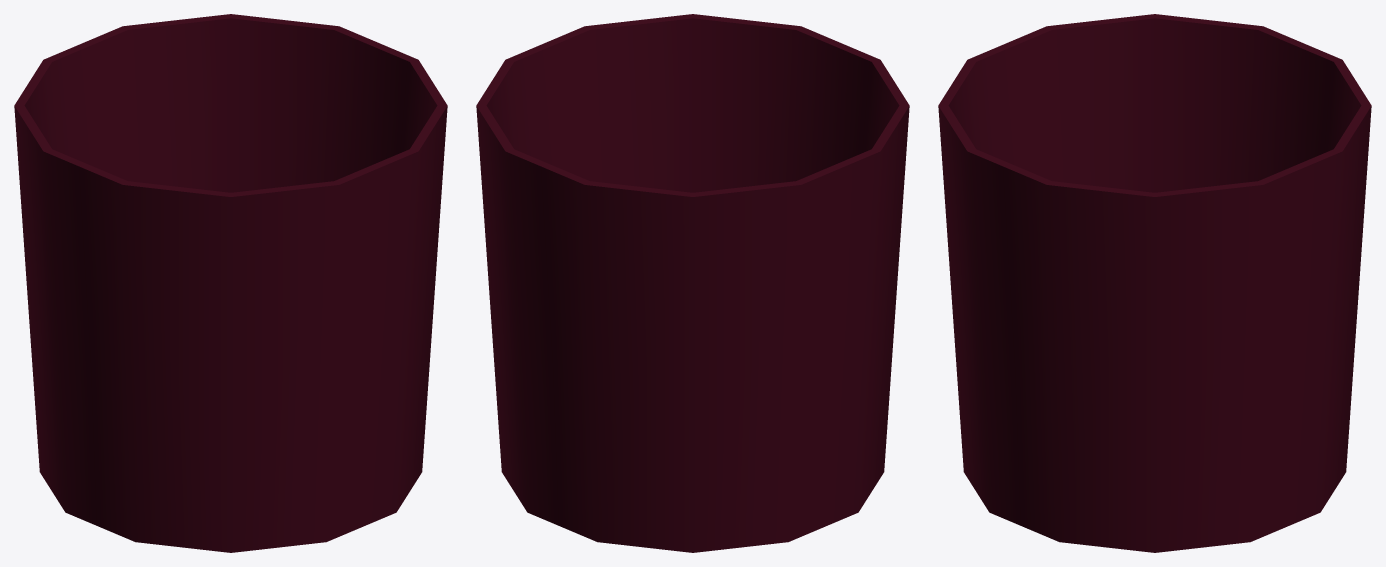
The model's file is Prop_Glass_Rum_v01.fbx.
The picture shows the model from 3 angles, left to right: view 1: azimuth 30°, elevation 25°; view 2: azimuth 150°, elevation 25°; view 3: azimuth 270°, elevation 25°; orthographic projection.
Visible parts, largest first — view 1: Rest_Bar_Set04_RumGlass_01; view 2: Rest_Bar_Set04_RumGlass_01; view 3: Rest_Bar_Set04_RumGlass_01.
Boxes of the visible parts, x1=… form: Rest_Bar_Set04_RumGlass_01: x1=14, y1=14, x2=447, y2=552; Rest_Bar_Set04_RumGlass_01: x1=476, y1=14, x2=909, y2=552; Rest_Bar_Set04_RumGlass_01: x1=938, y1=14, x2=1371, y2=552.
Size of the model in its own units: 2.19 by 2.05 by 2.19.
